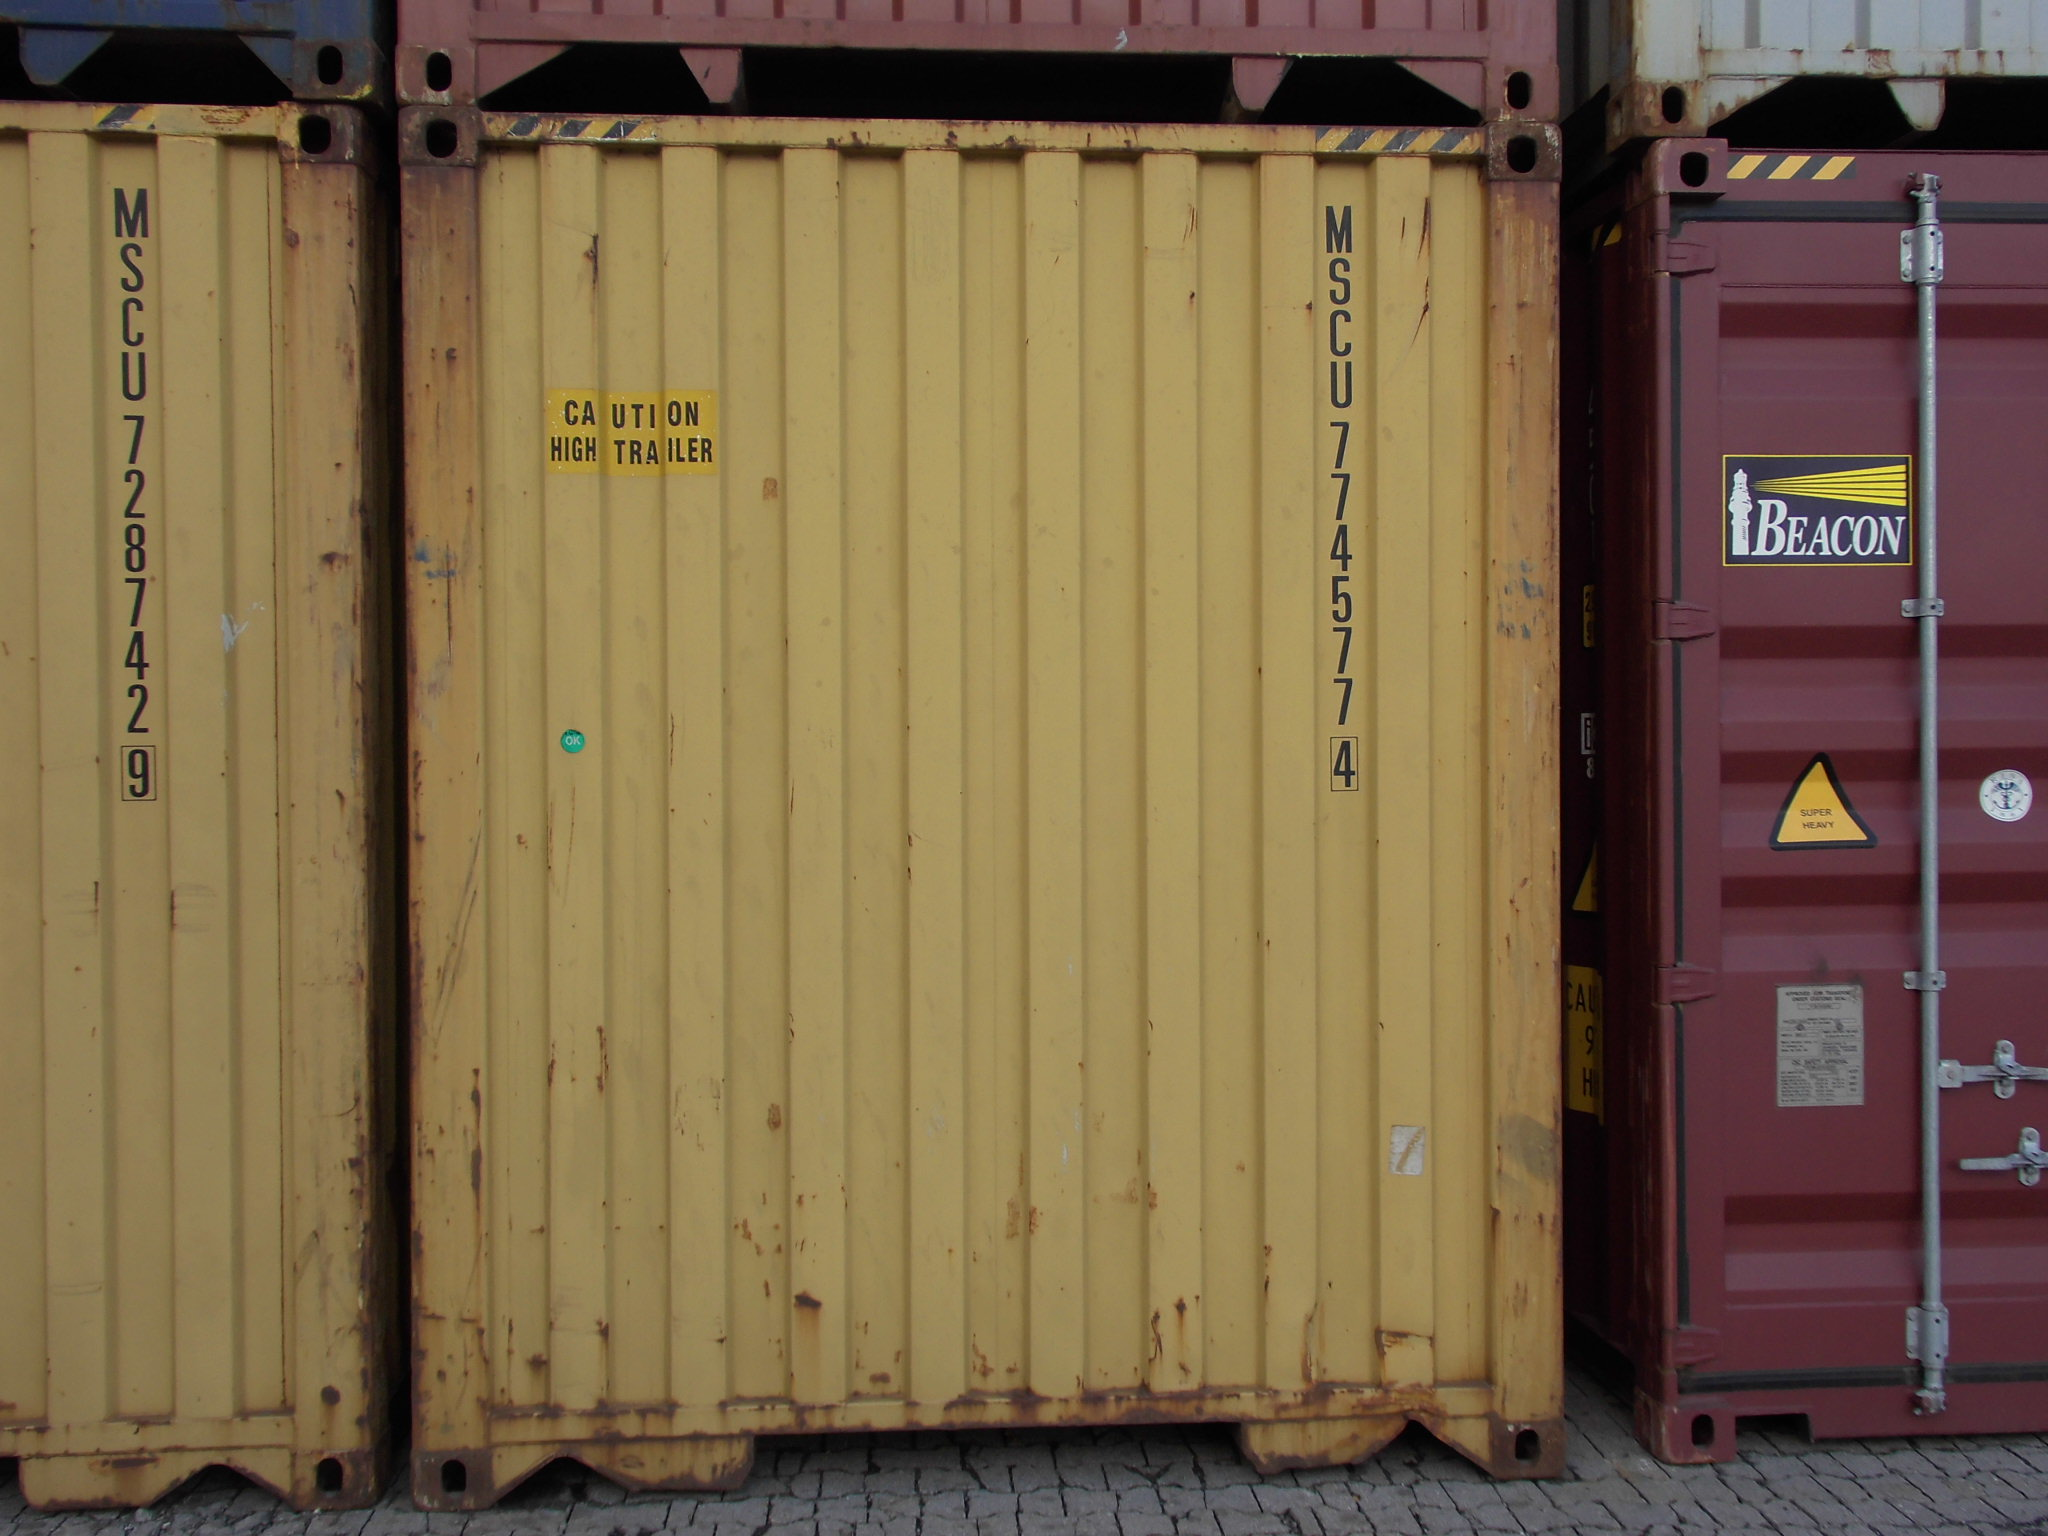container_no_door: (398, 90, 1584, 1492)
